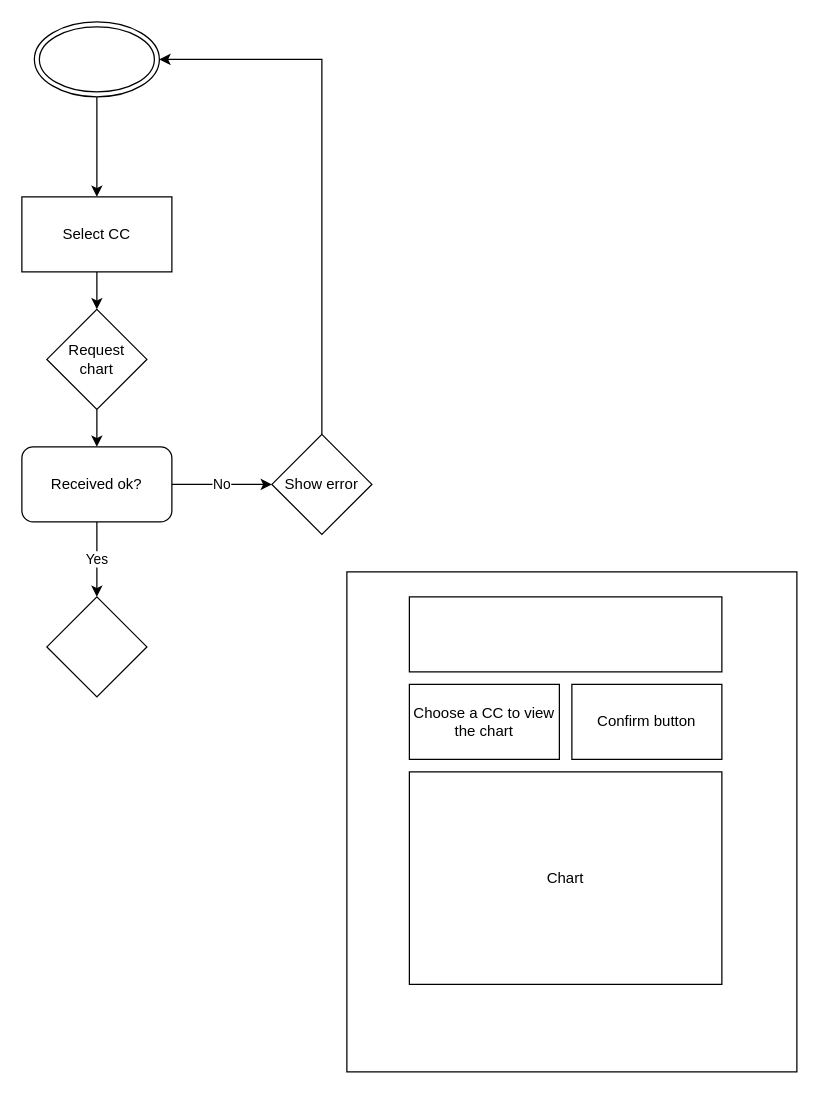
Some shapes in this 819 by 1094 pixel diagram are drawn without their labels. The centre of each missing label's shape, as x and y in pixels:
"Chart selector" belongs at point (565, 634).
"Show Chart" belongs at point (96, 646).
"Start" belongs at point (96, 59).
